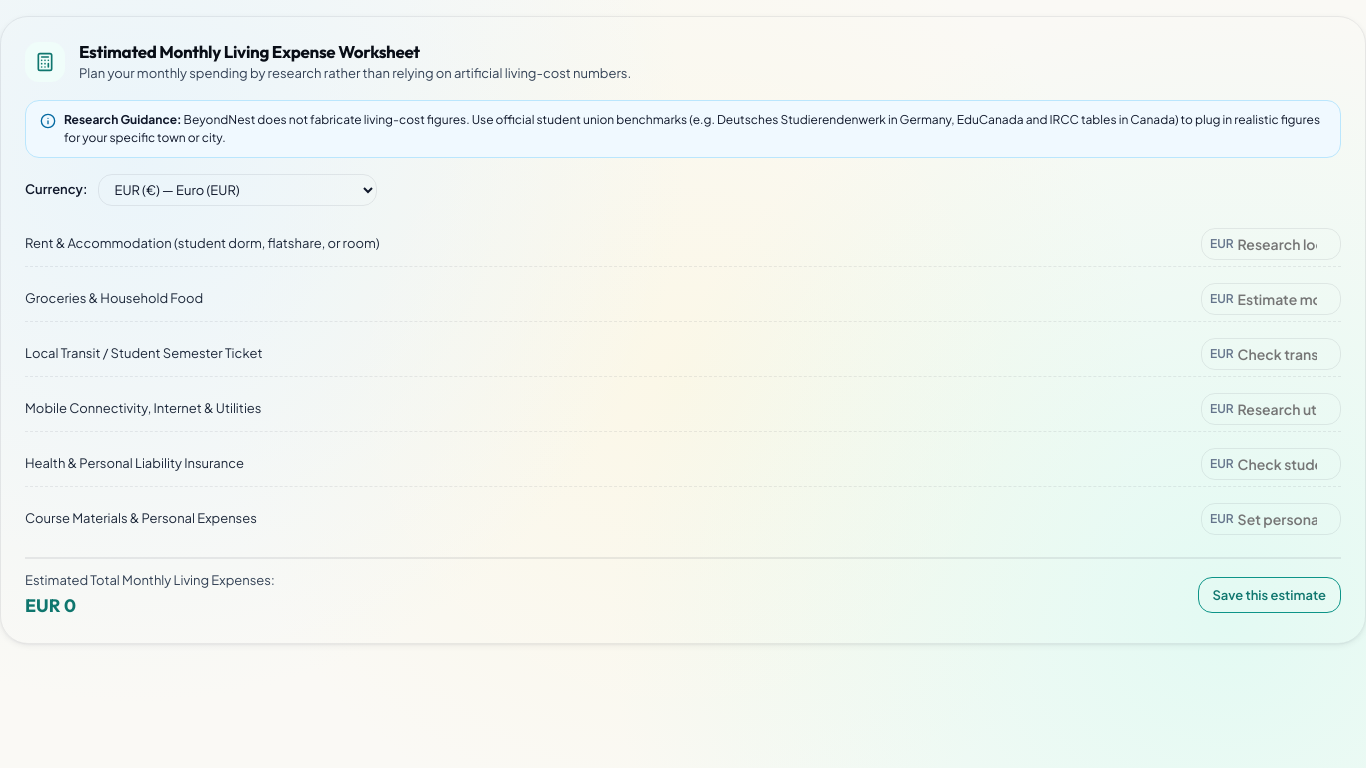
Test: Task 3.1: Planning Content, Guidance & Persistence Corrections › 5. Blank Expense Worksheet Defaults, Saving, Restoration, and Failure Handling › changing currency updates denomination without performing artificial exchange-rate conversions
Type "500" into the number field labelled "Rent & Accommodation (student dorm, flatshare, or room)".
click(1285, 244); type("500")  # box [1238,229,1332,259]
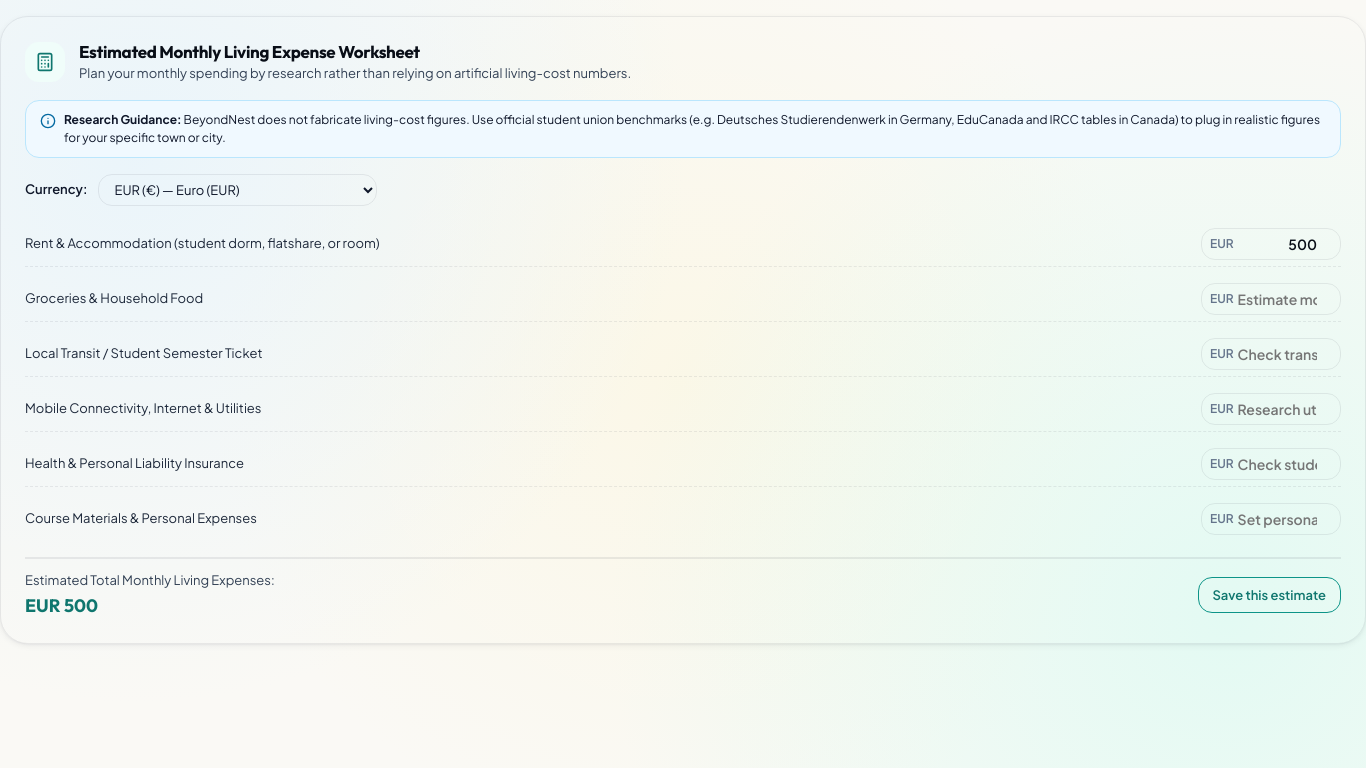
Select "CAD (CA$) — Canadian Dollar (CAD)" in the dropdown labelled "Currency:" at (237, 190), box [98,174,376,206]
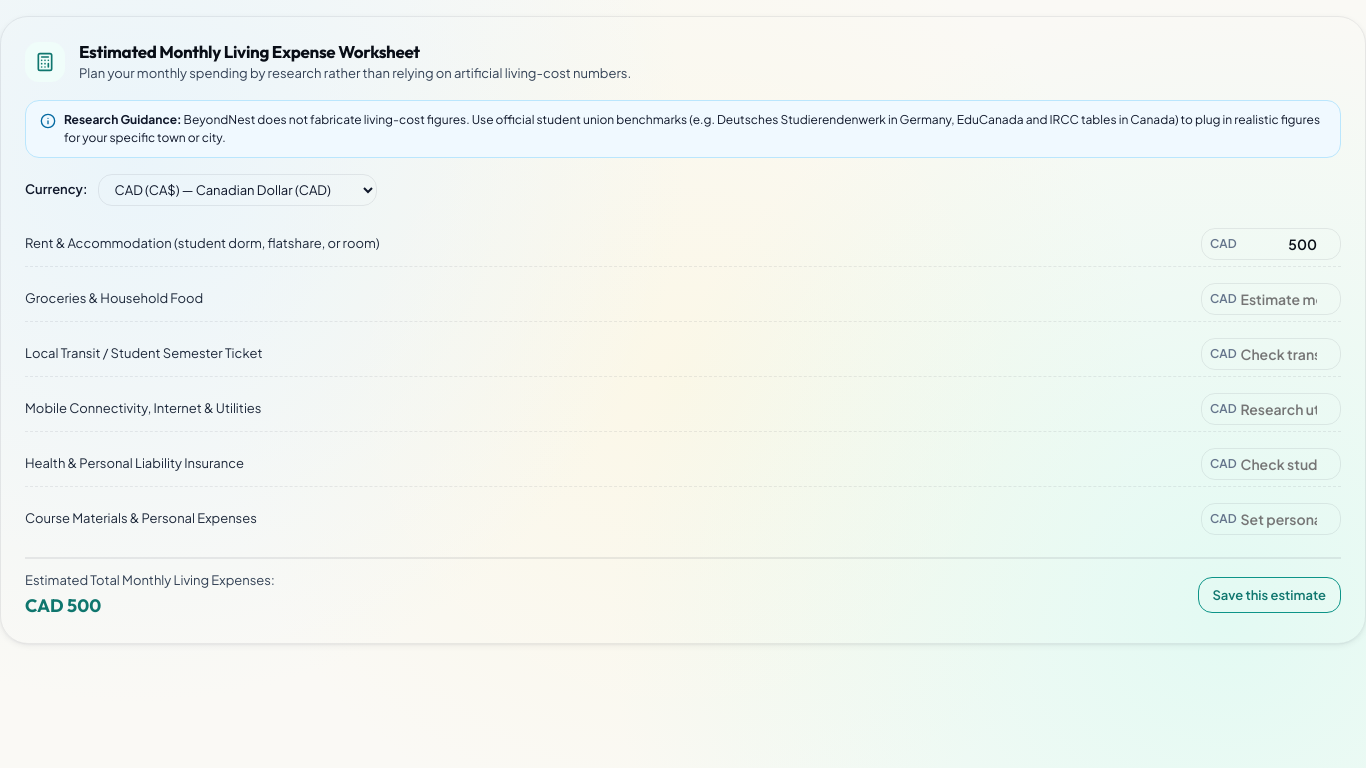
Result: the text "CAD 500" is shown at [25,594,101,617]
